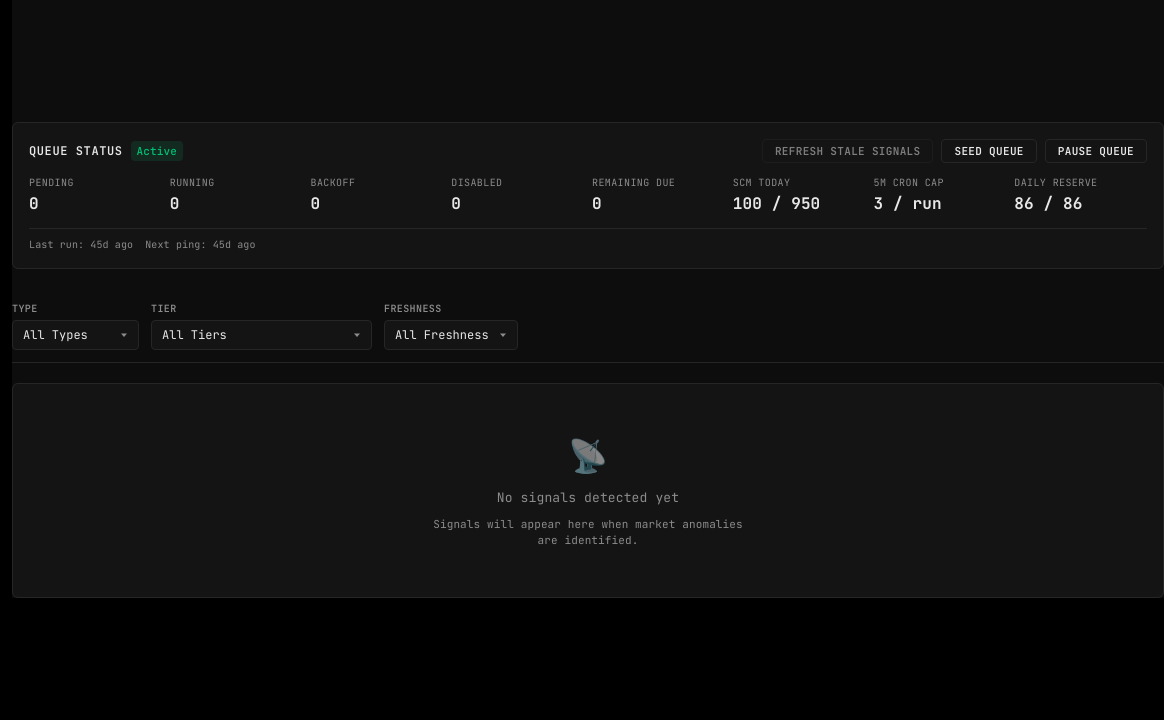
Test case: IntelligenceDashboard › shows a seed error and re-enables the button when seeding fails
Click the button with aria-label "Seed intelligence queue": (989, 151) top-left (942, 139), bottom-right (1037, 163)
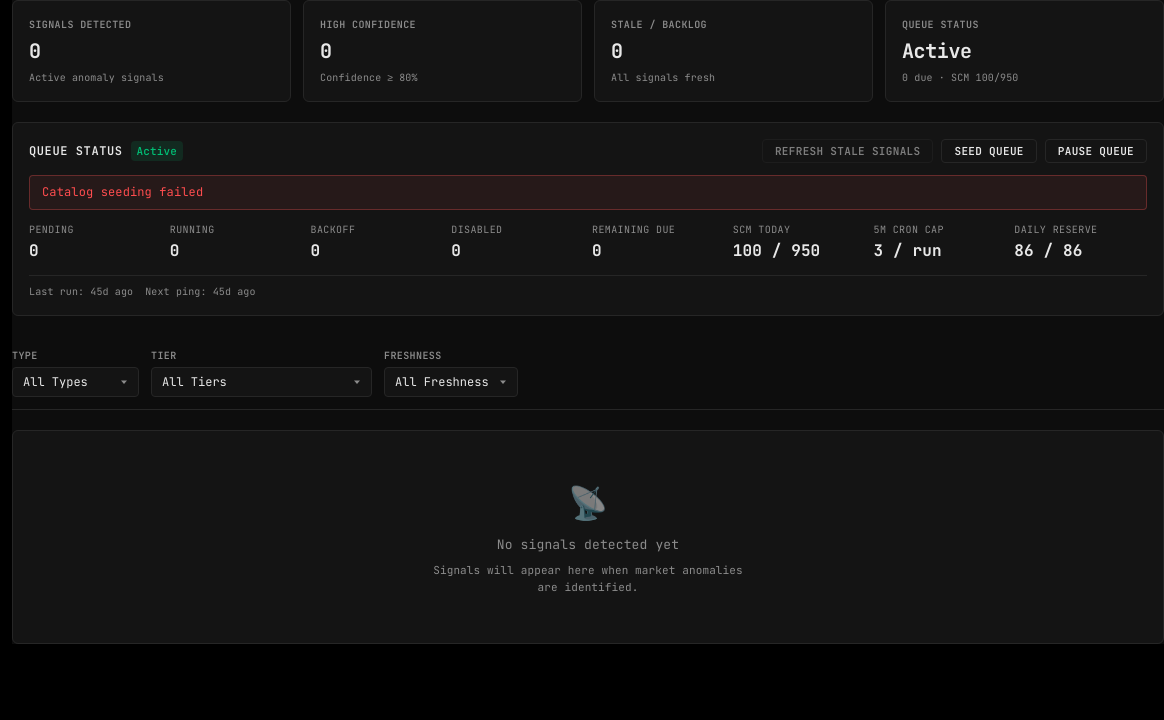
Now the text with test id "queue-seed-error" reads "Catalog seeding failed", box top-left (42, 184), bottom-right (203, 200)
